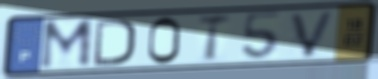0: (146, 15, 184, 65)
5: (239, 10, 286, 62)
D: (92, 18, 138, 68)
M: (37, 16, 96, 72)
T: (195, 13, 234, 64)
V: (288, 9, 339, 59)
